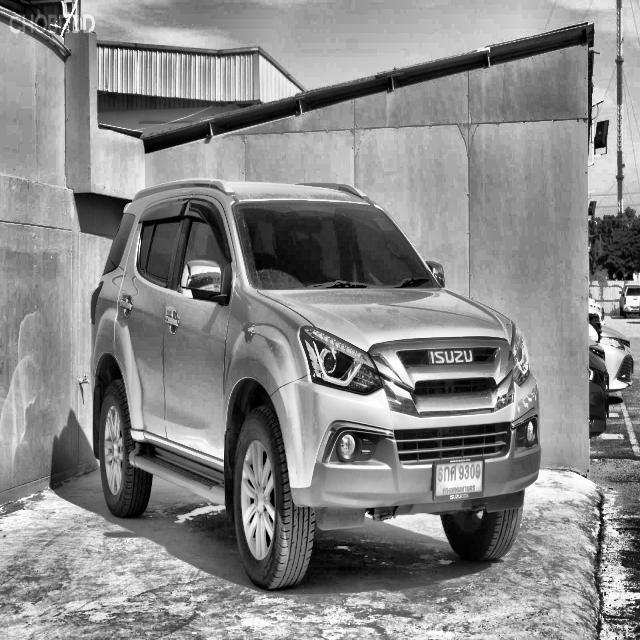license-plate: (431, 458, 488, 501)
